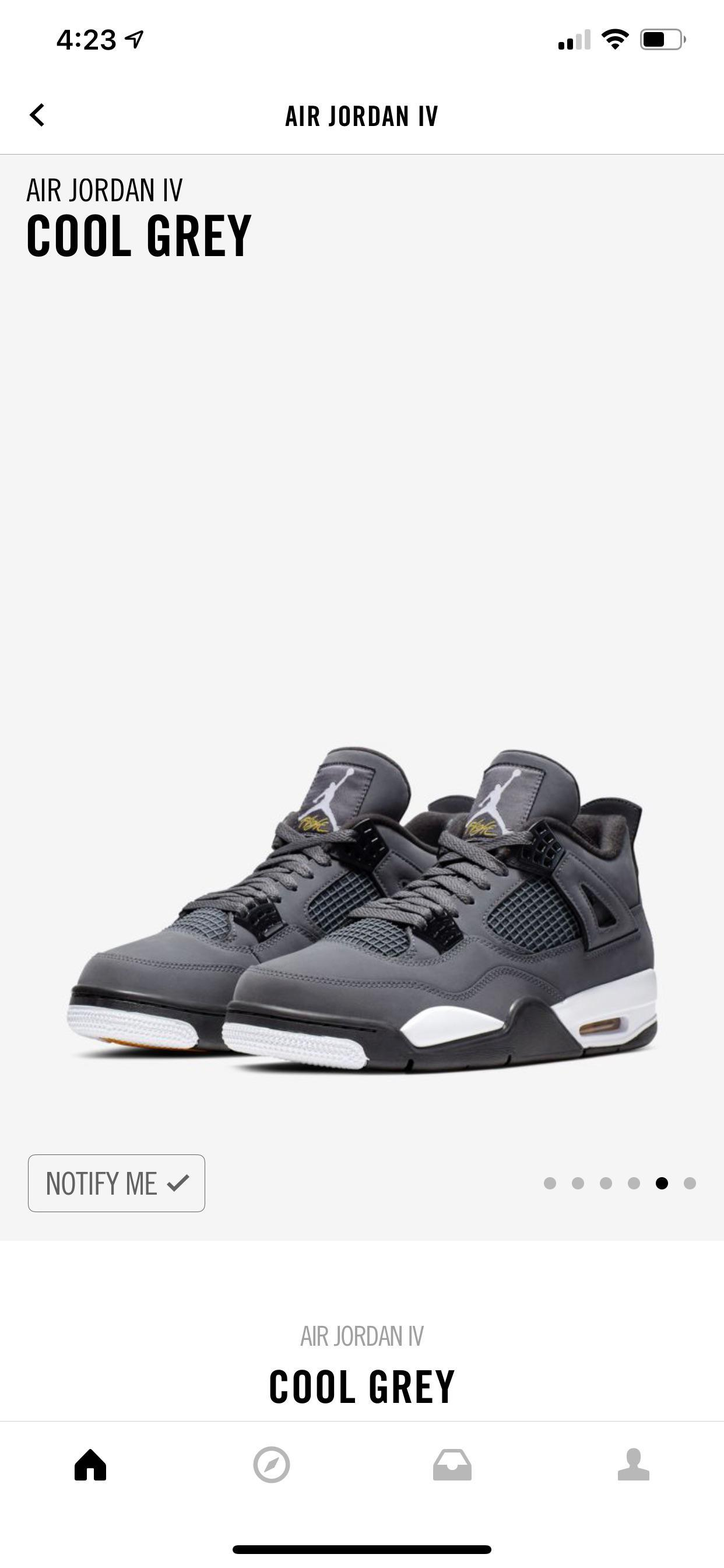sneaker: (211, 741, 684, 1126), (57, 726, 472, 1091)
